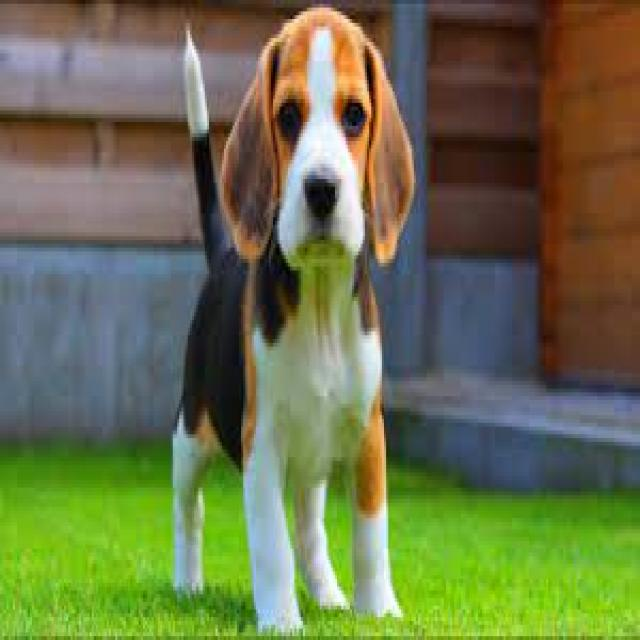Dog: (162, 0, 416, 640)
